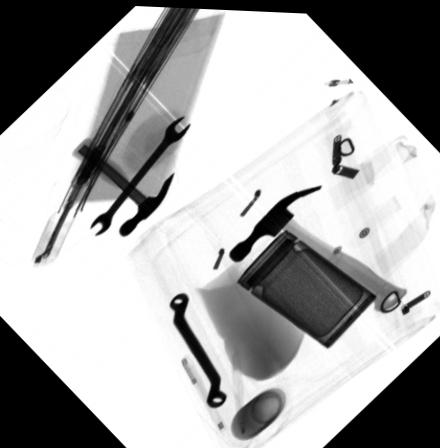Hammer: (228, 179, 408, 306), (70, 135, 175, 233)
Wrench: (90, 112, 192, 234), (168, 289, 226, 404)
